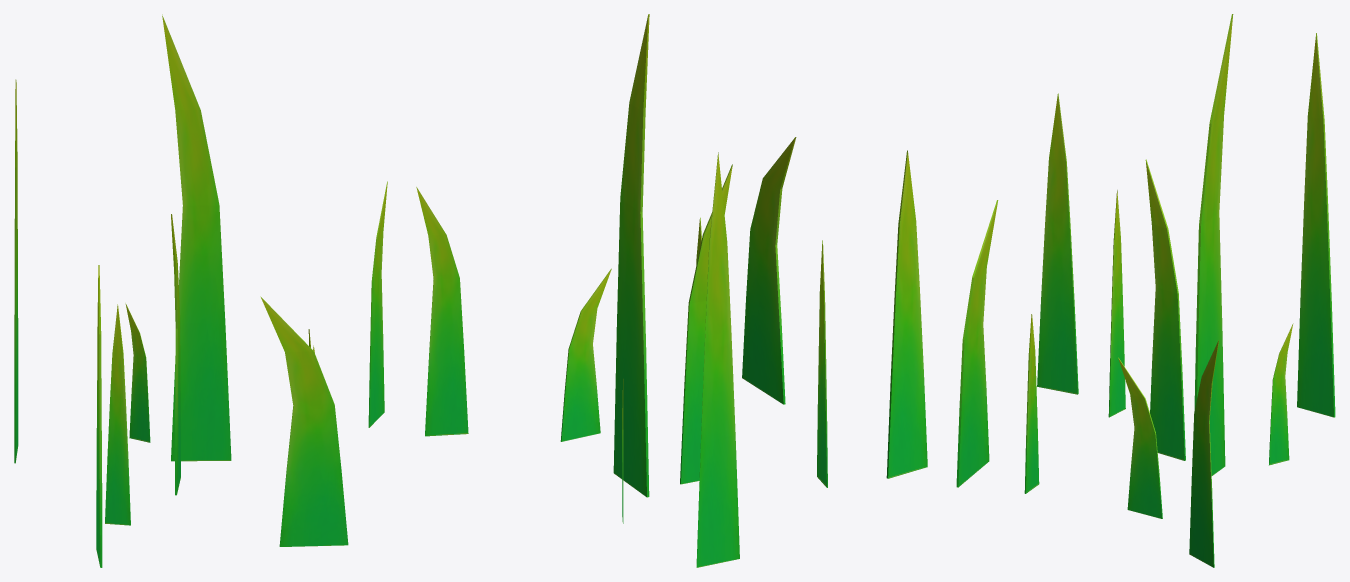
Rendered from Rumput2.fbx.
3 views of the same model, side by side, from view 1: azimuth 30°, elevation 25°; view 2: azimuth 150°, elevation 25°; view 3: azimuth 270°, elevation 25° (orthographic). The views are drawn at different scales.
Visible parts, largest first — view 1: rumput.001; view 2: rumput.001; view 3: rumput.001.
Part boxes in pixels (<box>): rumput.001: <box>14,14,387,567</box>; rumput.001: <box>416,14,927,567</box>; rumput.001: <box>956,14,1335,567</box>.
Bounding box in the file's own units: 90.85 × 102 × 78.21.
1 material, 1 textured.
